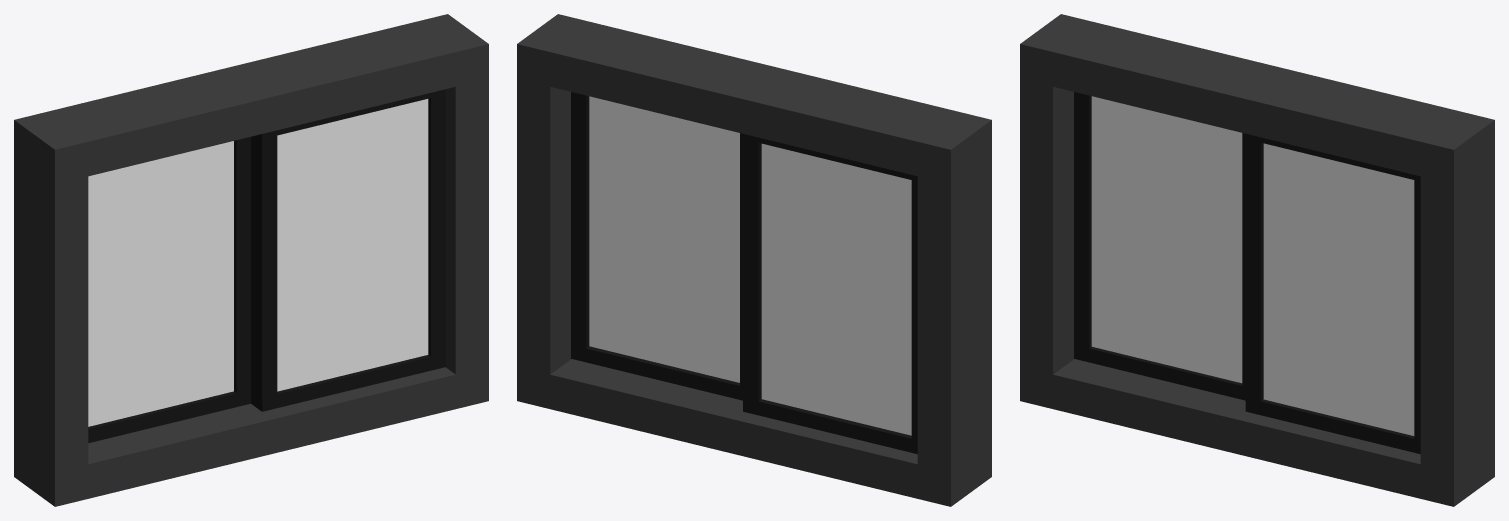
File: PoliceWindow.glb
The picture shows the model from 3 angles, left to right: view 1: azimuth 30°, elevation 25°; view 2: azimuth 150°, elevation 25°; view 3: azimuth 330°, elevation 25°; orthographic projection.
Parts seen in each view (by area): view 1: Cube, Cube.001, Cube.002; view 2: Cube, Cube.001, Cube.002; view 3: Cube, Cube.001, Cube.002.
Part boxes in pixels (x1,y1,x2,y2): Cube: [14, 14, 488, 506]; Cube.001: [88, 99, 428, 426]; Cube.002: [88, 89, 445, 443]; Cube: [517, 14, 991, 506]; Cube.001: [589, 96, 911, 435]; Cube.002: [571, 92, 917, 453]; Cube: [1020, 14, 1494, 506]; Cube.001: [1091, 96, 1414, 435]; Cube.002: [1074, 92, 1420, 454].
Bounding box in the file's own units: 2 × 1.58 × 0.3282.
2 materials, 1 textured.
